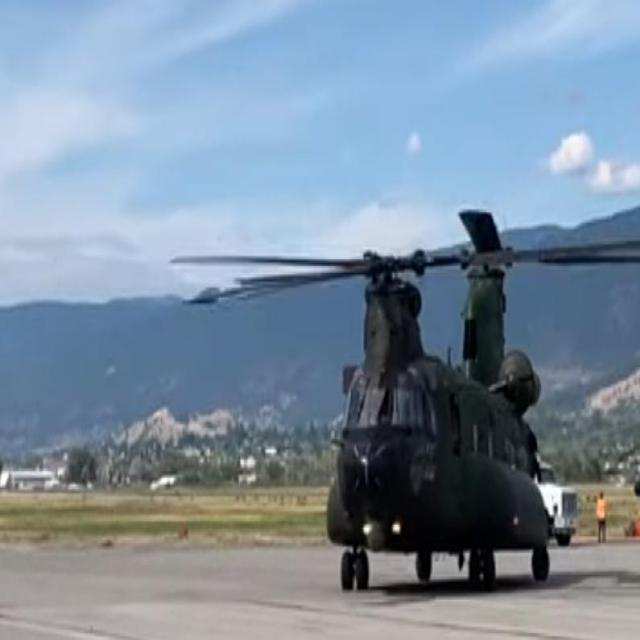Helicopter: (212, 204, 580, 594)
